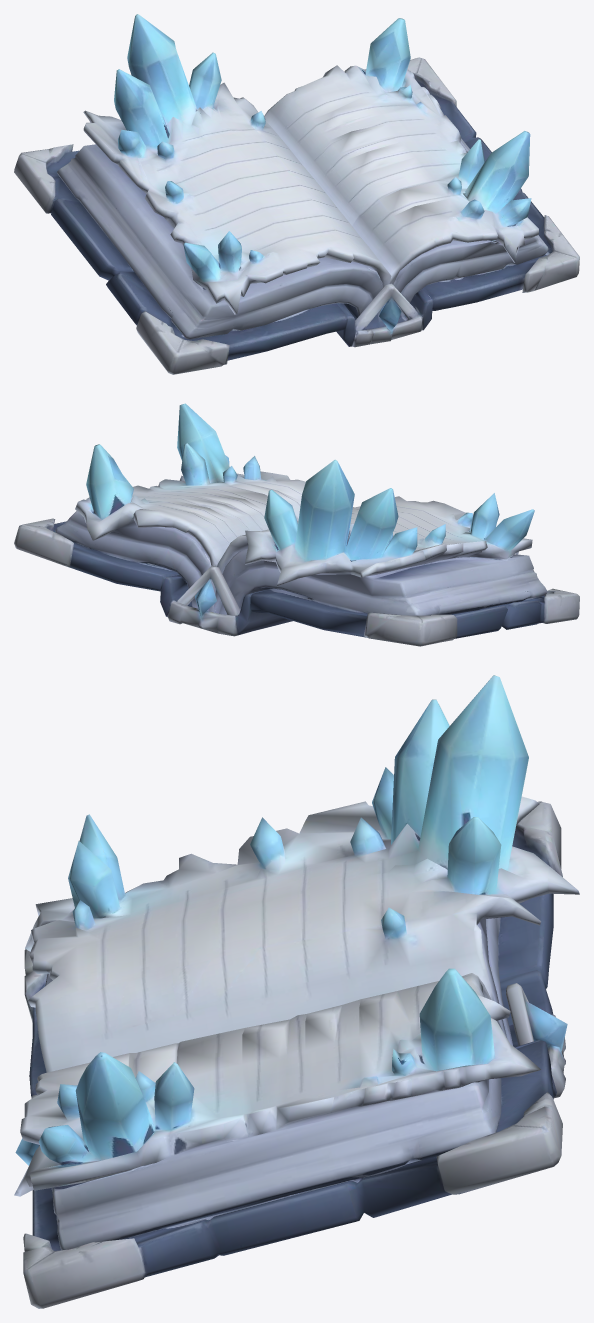
Rendered from tll_ch3_tome.glb.
3 views of the same model, one above another, from view 1: azimuth 30°, elevation 25°; view 2: azimuth 150°, elevation 25°; view 3: azimuth 270°, elevation 25° (orthographic). The views are drawn at different scales.
Visible parts, largest first — view 1: tripo_node_15464212-856c-4efa-9a01-a440c505c1ad; view 2: tripo_node_15464212-856c-4efa-9a01-a440c505c1ad; view 3: tripo_node_15464212-856c-4efa-9a01-a440c505c1ad.
Boxes of the visible parts, <box> form: tripo_node_15464212-856c-4efa-9a01-a440c505c1ad: <box>14,14,579,374</box>; tripo_node_15464212-856c-4efa-9a01-a440c505c1ad: <box>14,403,579,646</box>; tripo_node_15464212-856c-4efa-9a01-a440c505c1ad: <box>14,675,579,1308</box>.
Size of the model in its own units: 0.5903 by 0.35 by 0.4239.
1 material, 1 textured.
